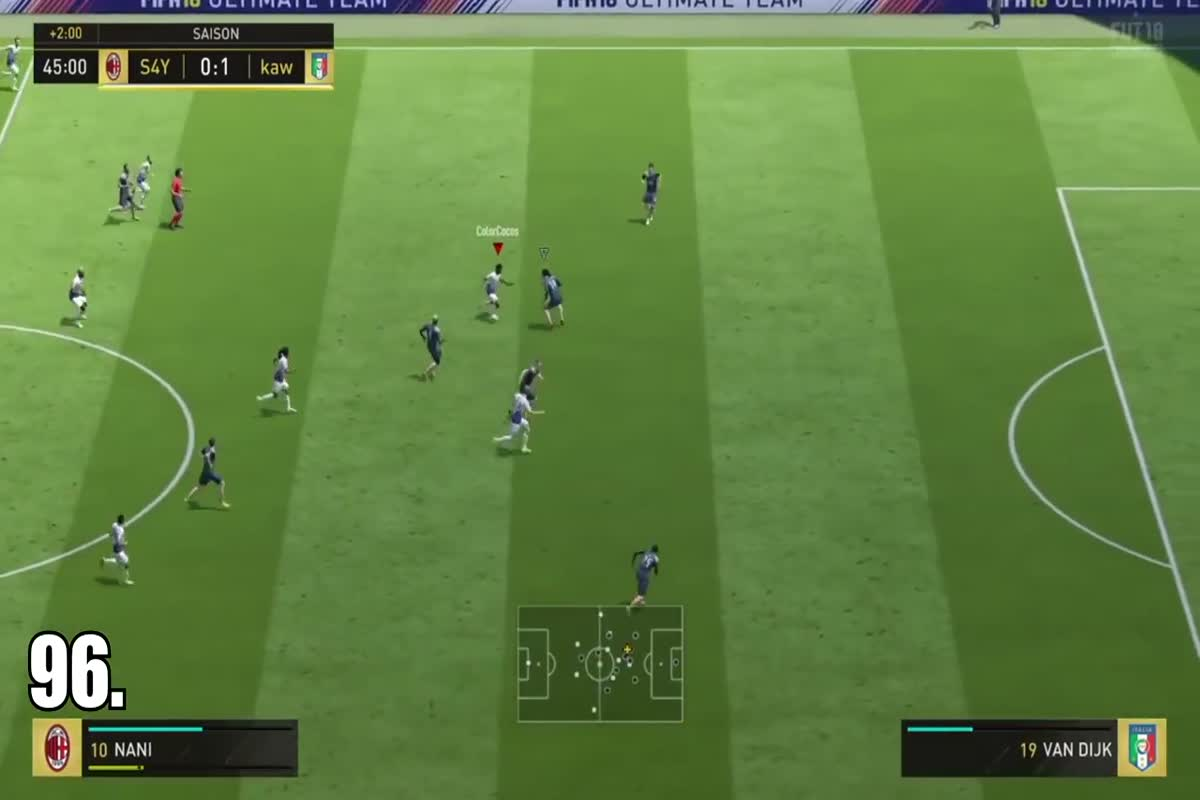ball: (480, 310, 509, 327)
